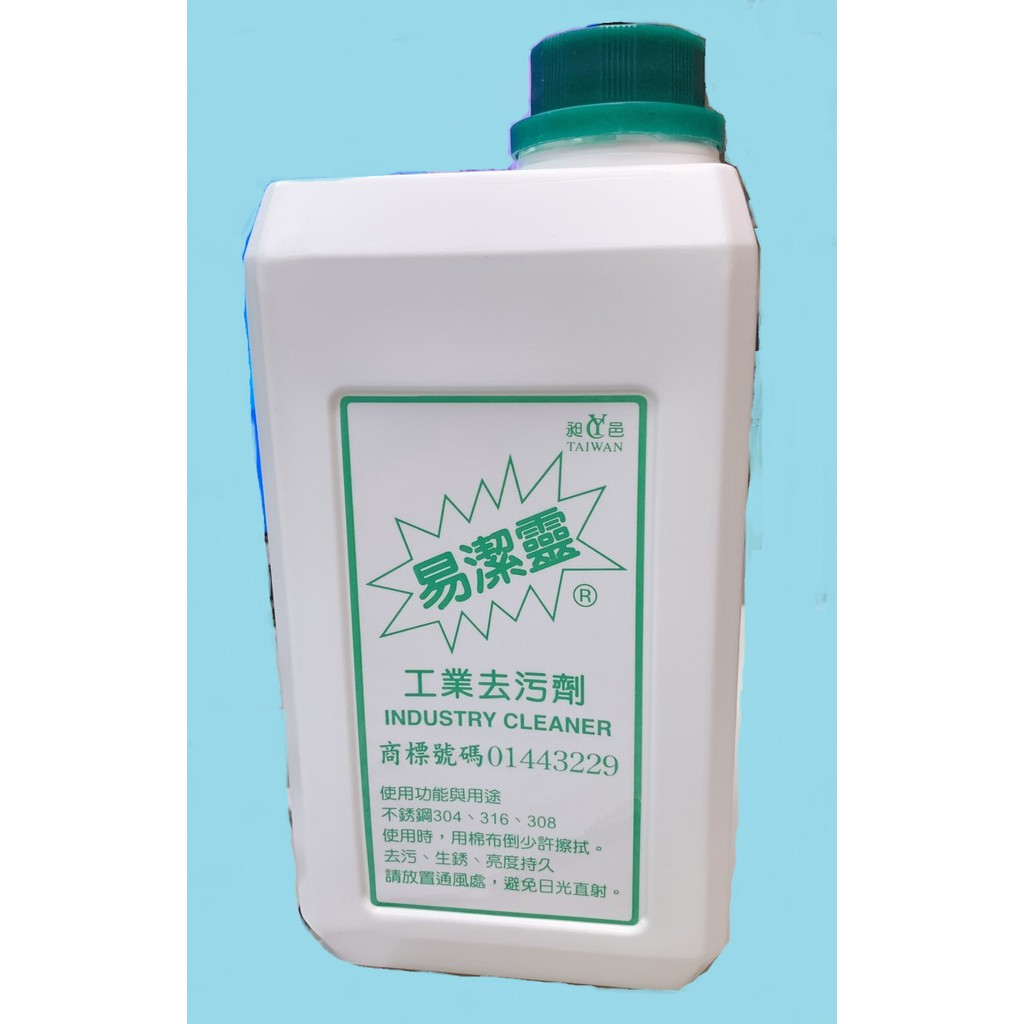cleaner: (235, 23, 753, 996)
